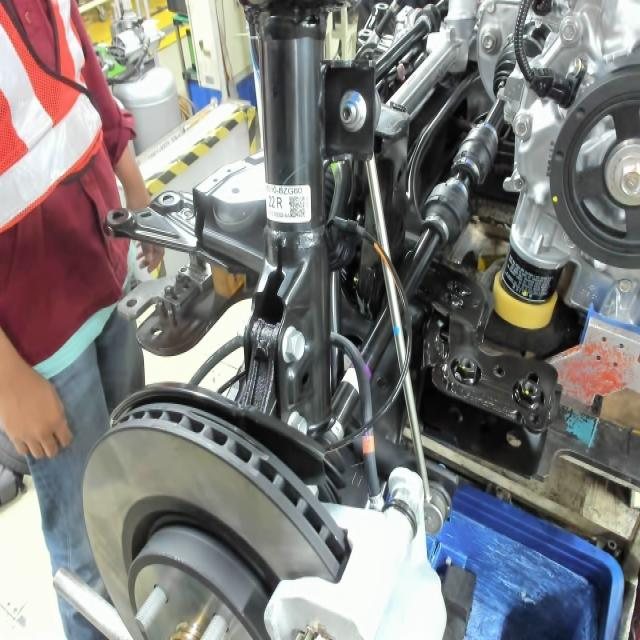Absorber RH-22: (266, 184, 308, 226)
Disc-HT: (118, 491, 287, 640)
Drive Shaft-UG: (341, 363, 374, 397)
